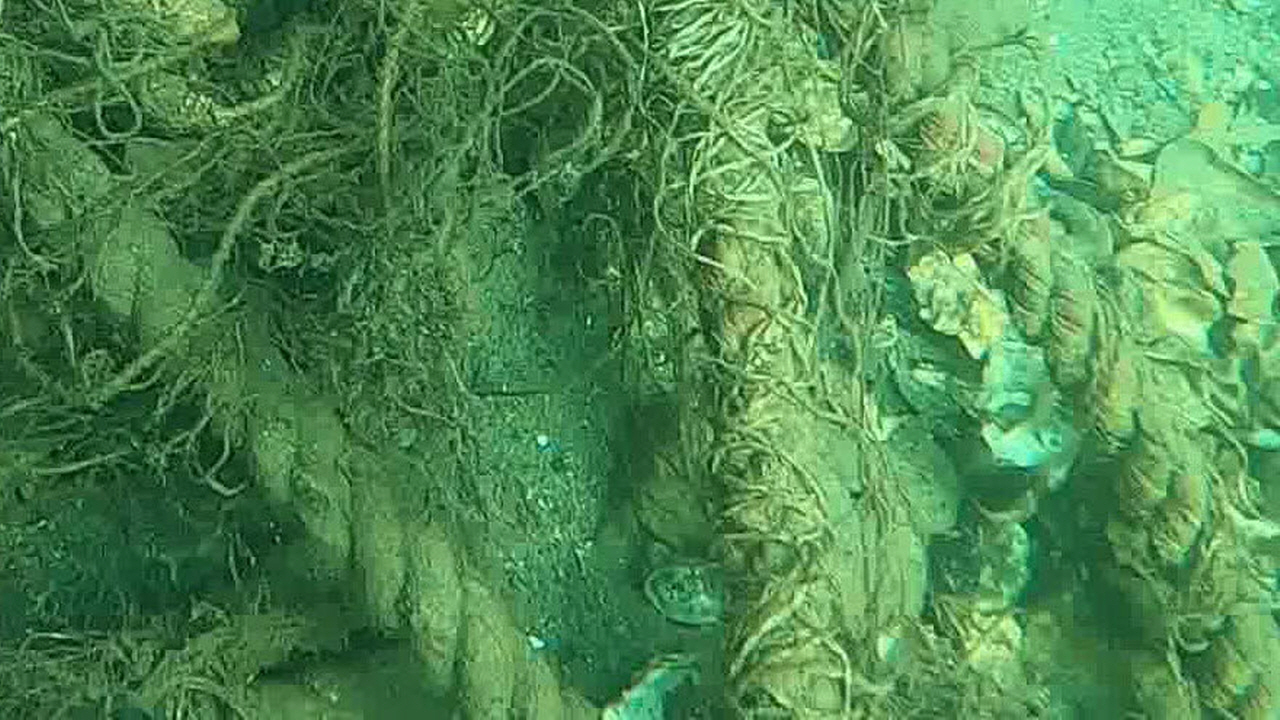rope: (14, 104, 586, 720), (868, 0, 1280, 720), (690, 0, 844, 720)
